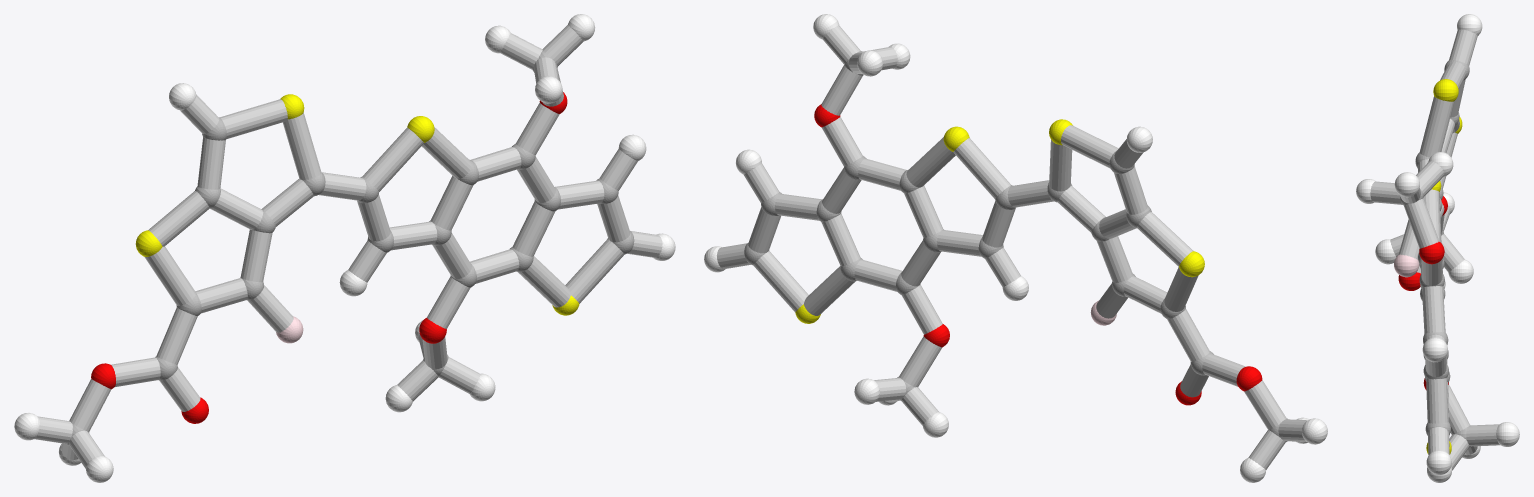
Rendered from color.glb.
The picture shows the model from 3 angles, left to right: view 1: azimuth 30°, elevation 25°; view 2: azimuth 150°, elevation 25°; view 3: azimuth 270°, elevation 25°; orthographic projection. The views are drawn at different scales.
Visible parts, largest first — view 1: grp15205, grp8689, grp1, grp7241, grp13395; view 2: grp15205, grp8689, grp1, grp7241, grp13395; view 3: grp15205, grp8689, grp1, grp13395, grp7241, grp14843.
Part boxes in pixels (x1=…): grp15205: x1=34, y1=25, x2=662, y2=468; grp8689: x1=14, y1=14, x2=675, y2=482; grp1: x1=67, y1=50, x2=634, y2=446; grp7241: x1=135, y1=94, x2=579, y2=315; grp13395: x1=91, y1=92, x2=567, y2=423; grp15205: x1=716, y1=25, x2=1307, y2=469; grp8689: x1=704, y1=14, x2=1327, y2=482; grp1: x1=744, y1=51, x2=1287, y2=441; grp7241: x1=795, y1=119, x2=1204, y2=323; grp13395: x1=814, y1=104, x2=1262, y2=405; grp15205: x1=1370, y1=29, x2=1499, y2=470; grp8689: x1=1356, y1=14, x2=1519, y2=482; grp1: x1=1400, y1=59, x2=1470, y2=447; grp13395: x1=1398, y1=196, x2=1448, y2=389; grp7241: x1=1426, y1=79, x2=1462, y2=454; grp14843: x1=1394, y1=254, x2=1419, y2=277.
Bounding box in the file's own units: 16.37 × 9.15 × 3.87.
